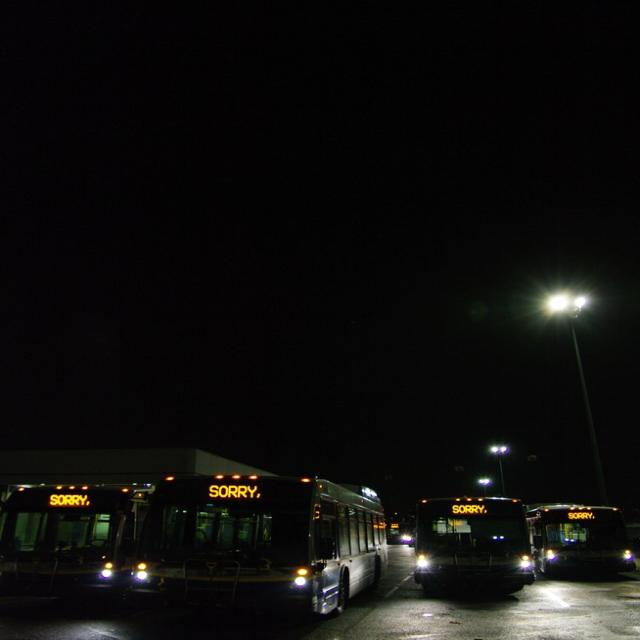Bus: (141, 461, 385, 625), (0, 439, 157, 618), (405, 461, 549, 626), (542, 477, 640, 613)
